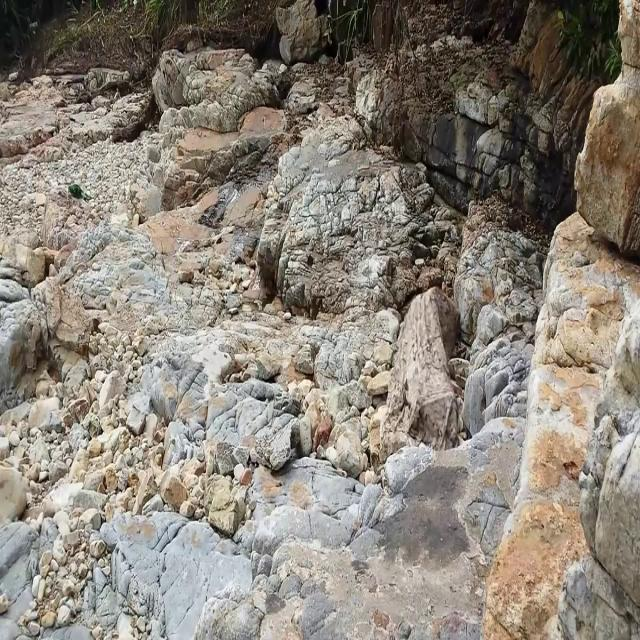camouflaged: (394, 287, 456, 446)
human: (206, 356, 370, 514), (206, 480, 244, 534), (338, 423, 367, 476)
